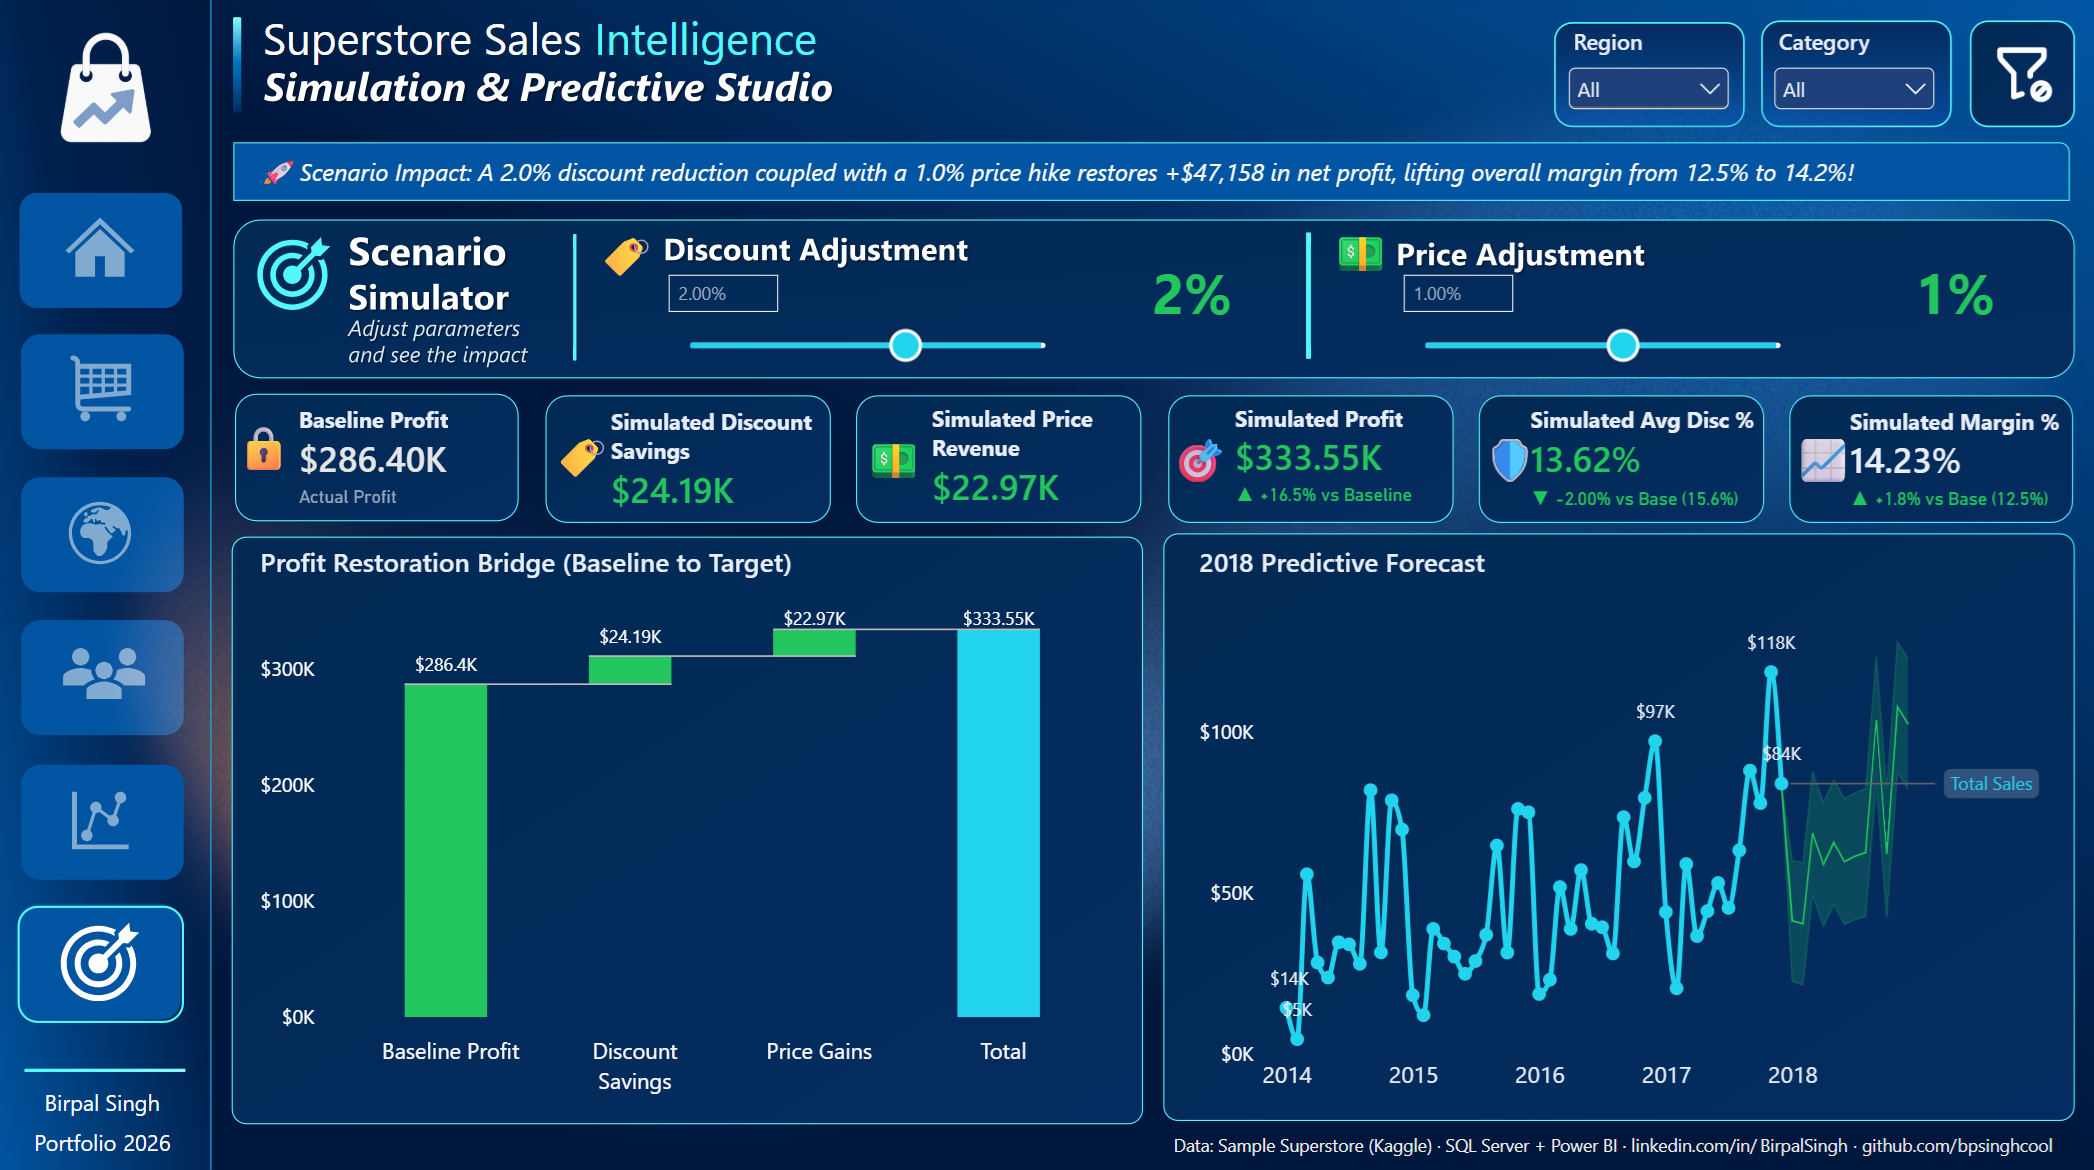

This screenshot's page, from the dashboard's own definition file:
{"tool":"powerbi","page":{"name":"Predictive Studio","canvas":[1280,720],"ordinal":6},"visuals":[{"type":"slicer","fields":{"Values":["Dim_Location.Region"]},"box":[951.4,18.3,108,58.3],"z":2000},{"type":"slicer","fields":{"Values":["Dim_Product.Category"]},"box":[1076.4,18.3,108,58.3],"z":3000},{"type":"image","box":[1212.8,18.6,40.3,55.8],"z":4000},{"type":"cardVisual","fields":{"Data":["Key Measures.Total Profit"]},"box":[179.8,248.4,126.6,85.2],"z":5000},{"type":"cardVisual","fields":{"Data":["Key Measures.Simulated Profit"]},"box":[749.1,247.9,135.3,86],"z":6000},{"type":"cardVisual","fields":{"Data":["Key Measures.Simulated Avg Discount %"]},"box":[929.6,248.7,151.3,88.3],"z":7000},{"type":"cardVisual","fields":{"Data":["Key Measures.Simulated Margin %"]},"box":[1123.8,249.2,134.9,86.4],"z":8000},{"type":"cardVisual","fields":{"Data":["Key Measures.Simulated Discount Savings"]},"box":[369.9,248.8,150.2,77.9],"z":9000},{"type":"cardVisual","fields":{"Data":["Key Measures.Simulated Price Revenue"]},"box":[565.1,247.9,150.2,88.3],"z":10000},{"type":"cardVisual","fields":{"Data":["Key Measures.Page 6 Banner Text"]},"box":[144.6,91.1,1114.9,30],"z":11000},{"type":"waterfallChart","title":"Profit Restoration Bridge (Baseline to Target)","fields":{"Category":["Waterfall_Bridge.Step_Name"],"Y":["Key Measures.Waterfall_Value"]},"box":[144.3,319.4,557.2,367.9],"z":12000},{"type":"lineChart","title":"2018 Predictive Forecast","fields":{"Category":["Dim_Date.Date.Variation.Date Hierarchy.Year","Dim_Date.Date.Variation.Date Hierarchy.Quarter","Dim_Date.Date.Variation.Date Hierarchy.Month","Dim_Date.Date.Variation.Date Hierarchy.Day"],"Y":["Key Measures.Total Sales"]},"box":[715.7,319.4,548.9,367.9],"z":13000},{"type":"actionButton","box":[15.6,18.8,99.6,82.5],"z":14000},{"type":"image","box":[11.5,0,108.6,105.6],"z":15000},{"type":"actionButton","box":[13.1,205.2,99.6,71.4],"z":16000},{"type":"actionButton","box":[13.1,293.7,99.6,66.4],"z":17000},{"type":"actionButton","box":[13.1,118.7,99.6,71.4],"z":18000},{"type":"actionButton","box":[12.8,381.6,99.6,66.4],"z":19000},{"type":"actionButton","box":[16.4,469.3,99.6,66.4],"z":20000},{"type":"card","fields":{"Values":["Key Measures.Display_Discount_Pct"]},"box":[654.2,137.2,145.5,89.9],"z":21000},{"type":"card","fields":{"Values":["Key Measures.Display_Price_Pct"]},"box":[1117.9,137.2,146.7,89.9],"z":22000},{"type":"slicer","fields":{"Values":["Discount Adjustment.Discount Adjustment"]},"box":[401,164.4,253.2,62.7],"z":22001},{"type":"slicer","fields":{"Values":["Price Adjustment.Price Adjustment"]},"box":[848.2,163.9,253.3,61.9],"z":22002}]}

Visuals, with their boxes in screenshot pixels (x1, y1, x2, y2), scaled from the page's 1280x720 canvas onto the 2094x1170 screenshot:
slicer - Dim_Location.Region: 1556, 30, 1733, 124
slicer - Dim_Product.Category: 1761, 30, 1938, 124
image: 1984, 30, 2050, 121
cardVisual - Key Measures.Total Profit: 294, 404, 501, 542
cardVisual - Key Measures.Simulated Profit: 1225, 403, 1447, 543
cardVisual - Key Measures.Simulated Avg Discount %: 1521, 404, 1768, 548
cardVisual - Key Measures.Simulated Margin %: 1838, 405, 2059, 545
cardVisual - Key Measures.Simulated Discount Savings: 605, 404, 851, 531
cardVisual - Key Measures.Simulated Price Revenue: 924, 403, 1170, 546
cardVisual - Key Measures.Page 6 Banner Text: 237, 148, 2060, 197
"Profit Restoration Bridge (Baseline to Target)" waterfallChart: 236, 519, 1148, 1117
"2018 Predictive Forecast" lineChart: 1171, 519, 2069, 1117
actionButton: 26, 31, 188, 165
image: 19, 0, 196, 172
actionButton: 21, 333, 184, 449
actionButton: 21, 477, 184, 585
actionButton: 21, 193, 184, 309
actionButton: 21, 620, 184, 728
actionButton: 27, 763, 190, 871
card - Key Measures.Display_Discount_Pct: 1070, 223, 1308, 369
card - Key Measures.Display_Price_Pct: 1829, 223, 2069, 369
slicer - Discount Adjustment.Discount Adjustment: 656, 267, 1070, 369
slicer - Price Adjustment.Price Adjustment: 1388, 266, 1802, 367
